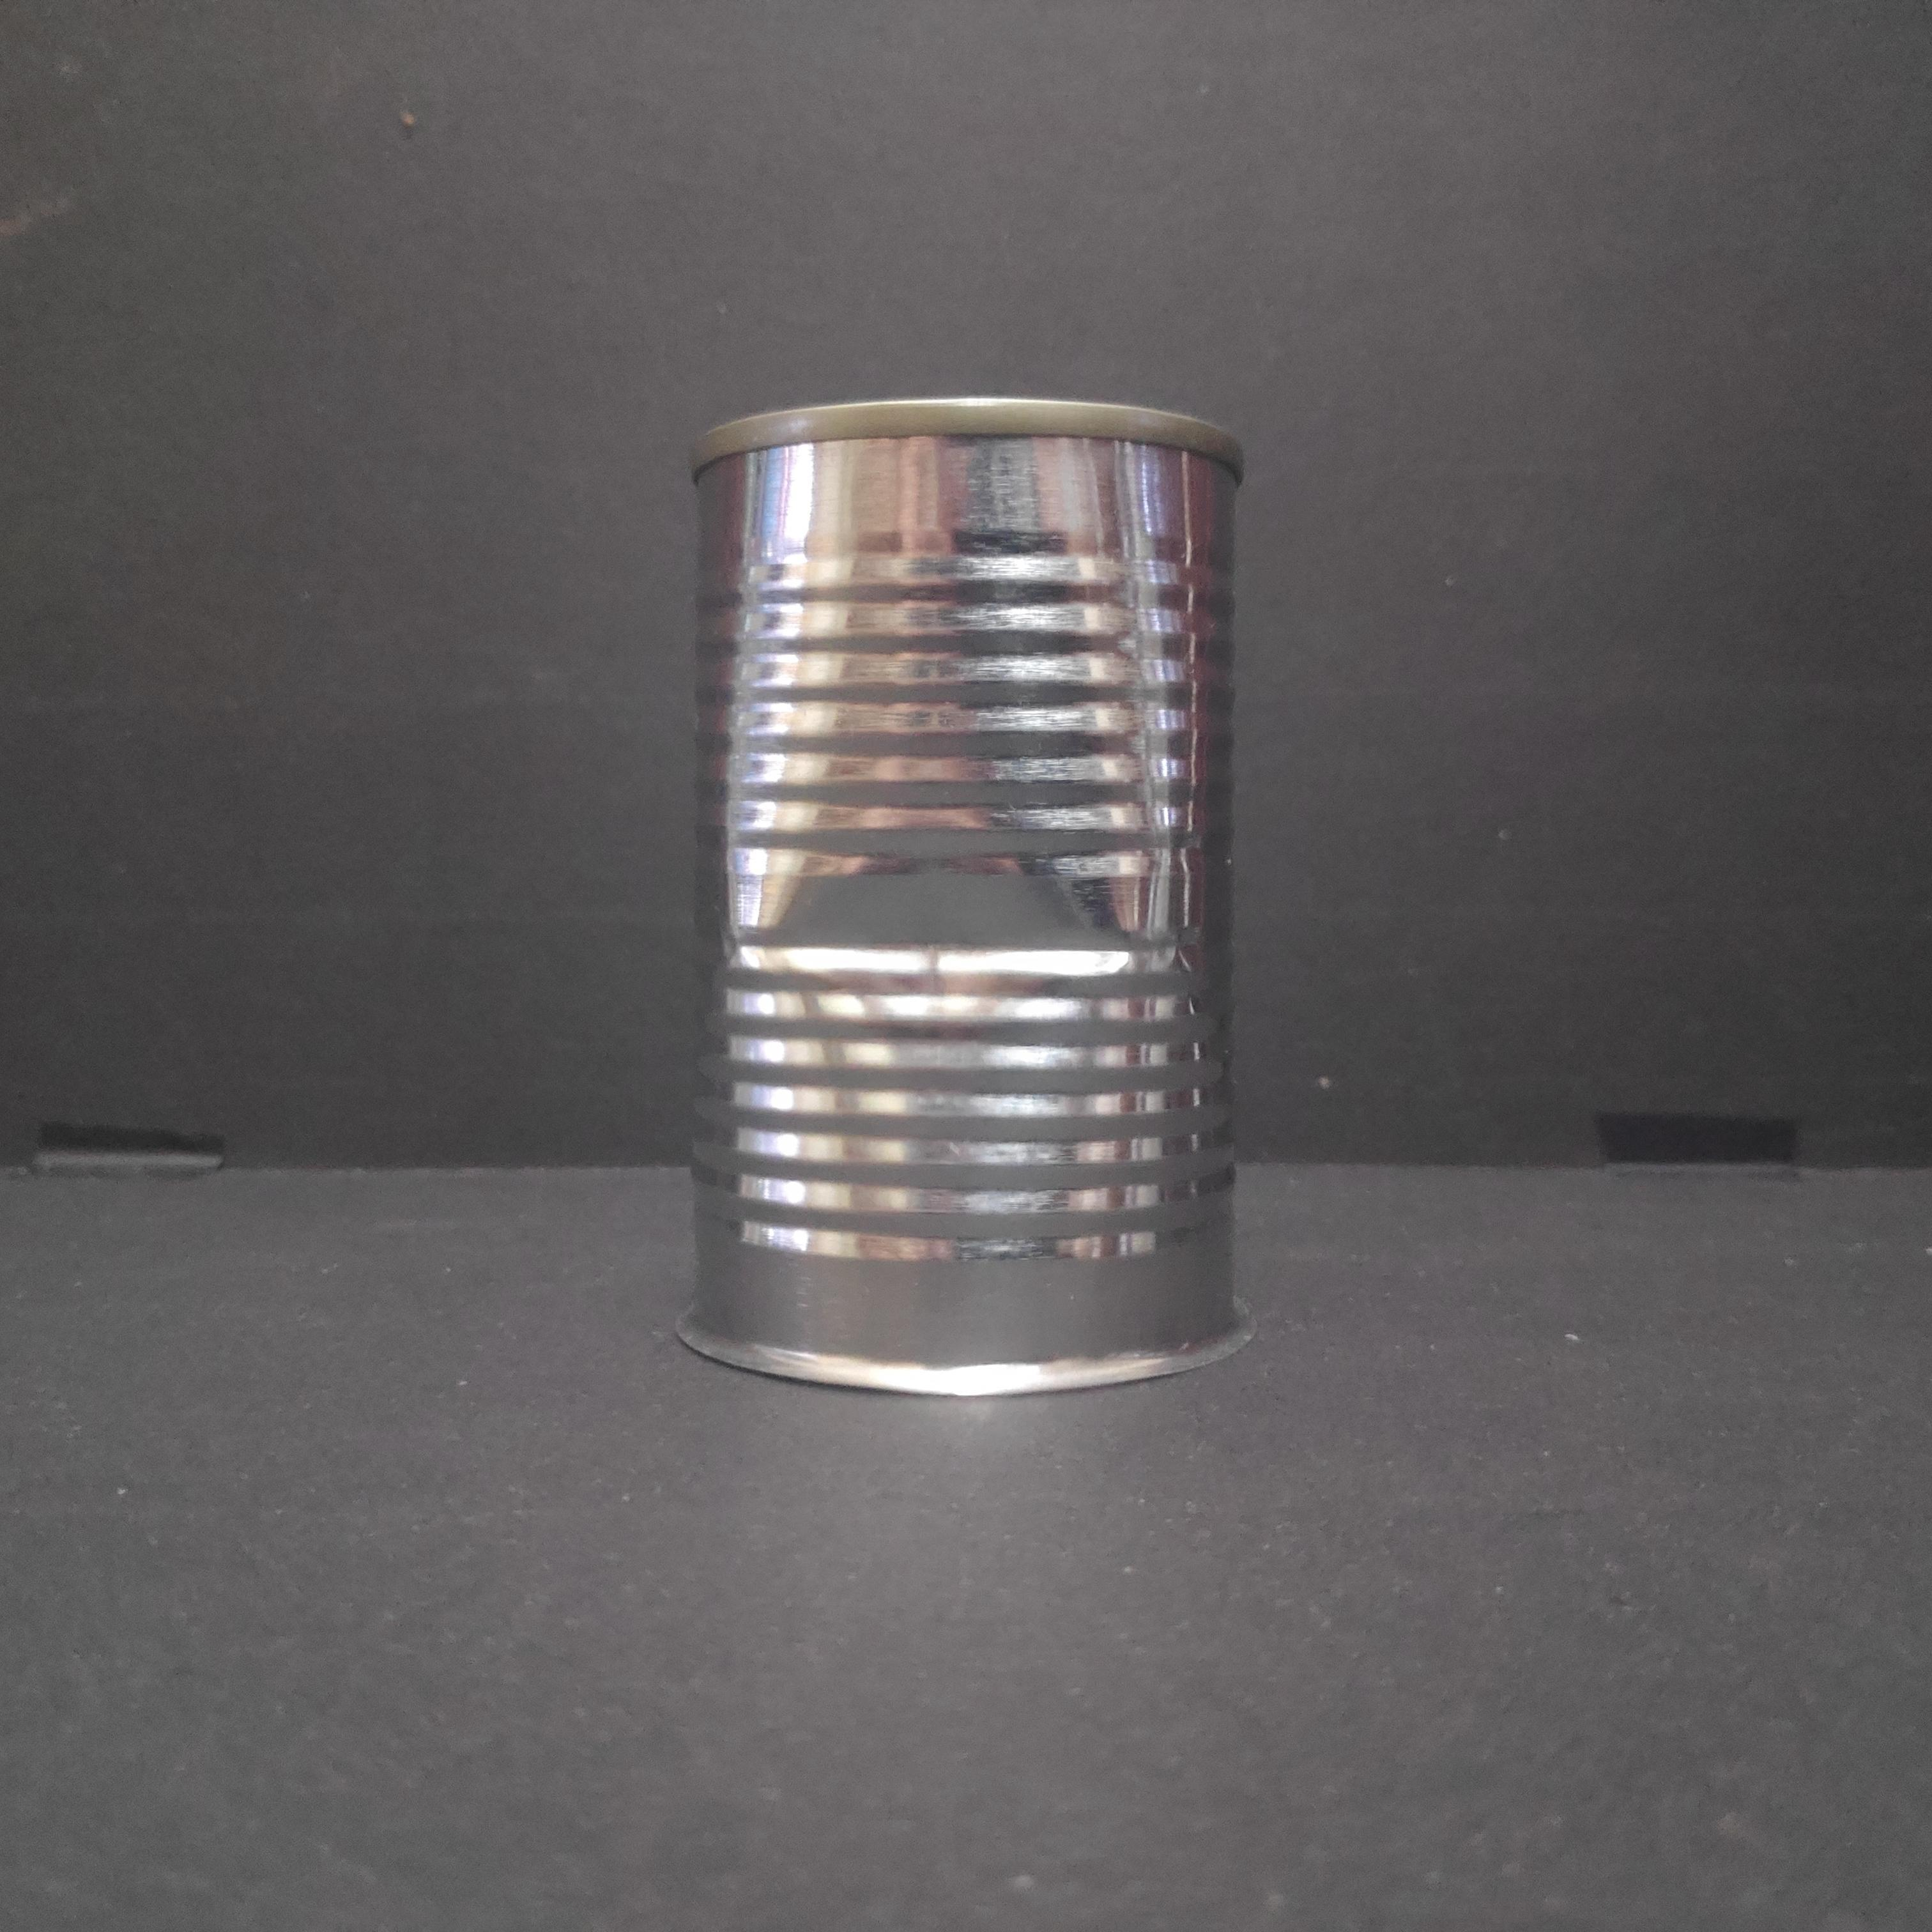Dented: (662, 364, 1277, 1415)
